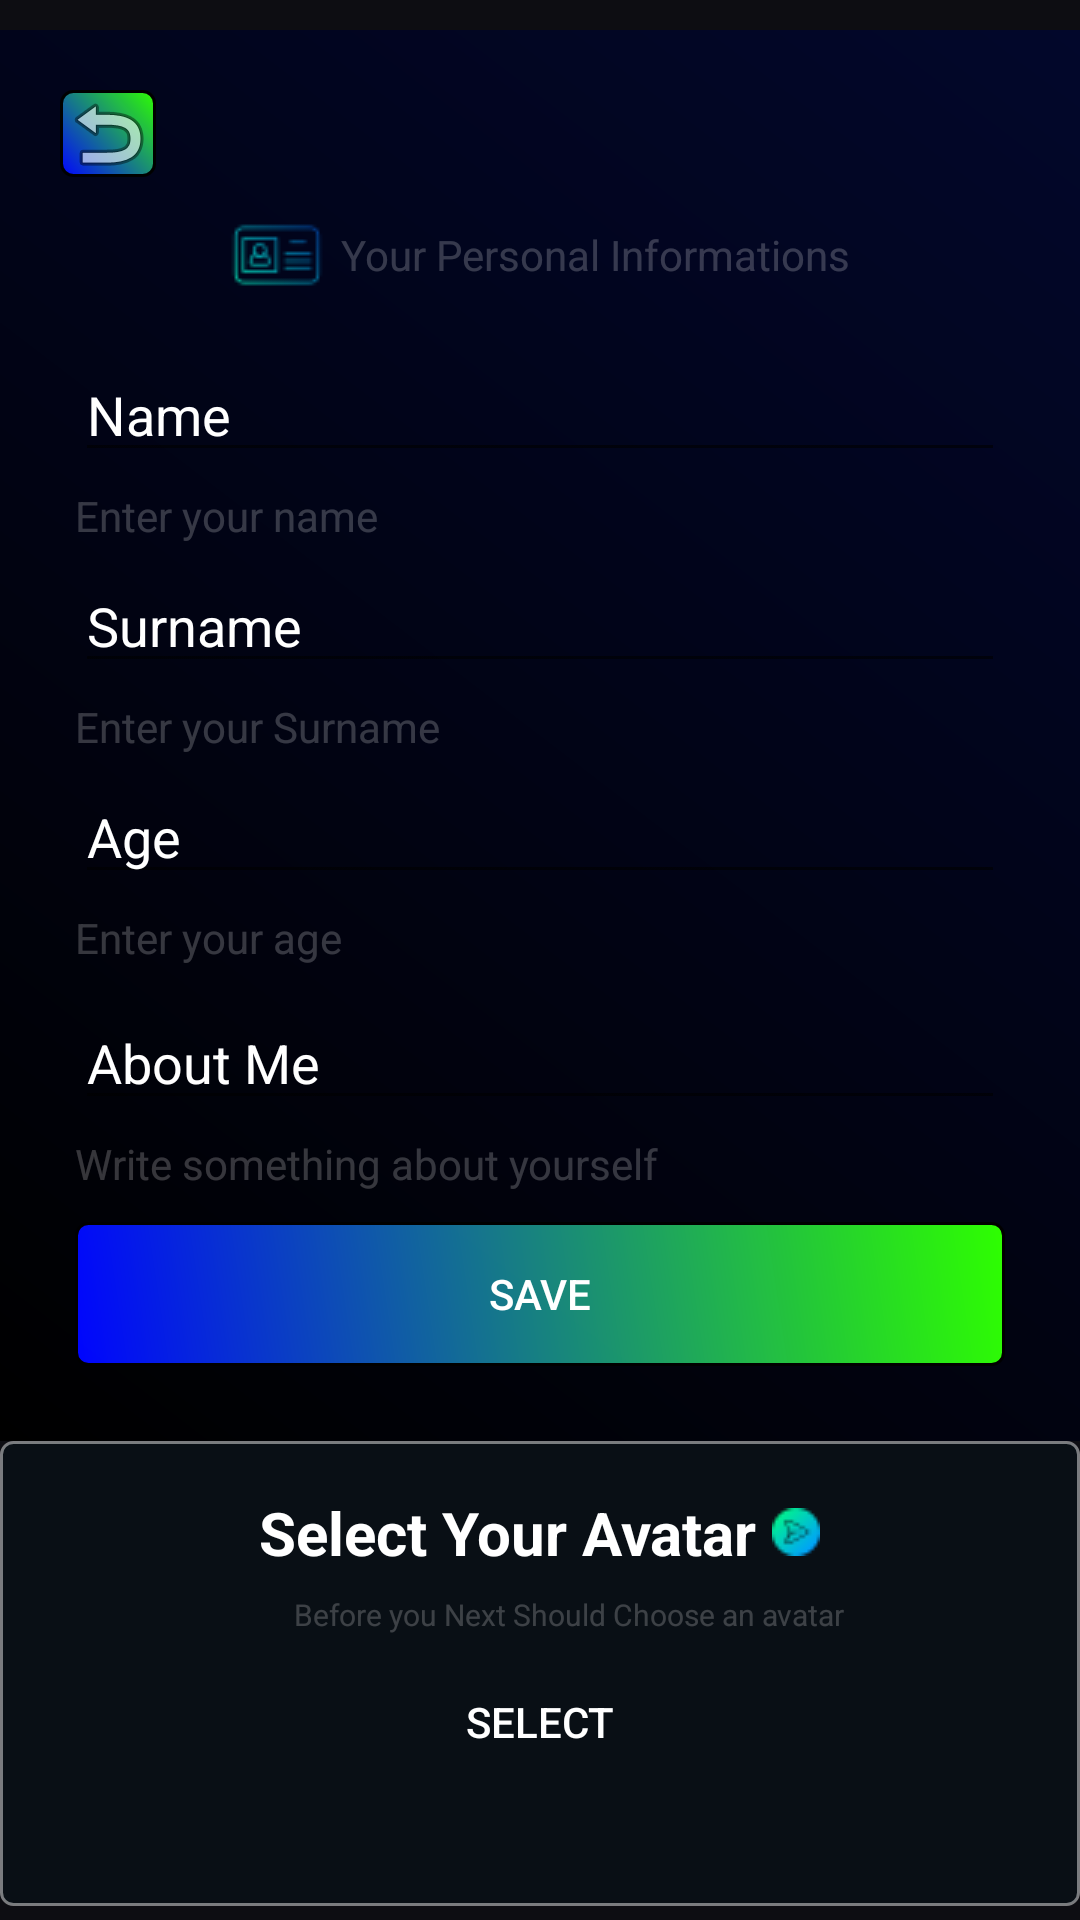

Named icons in this screenshot (1080×1920) and their centers, point (x, y):
revert: point (108, 133)
